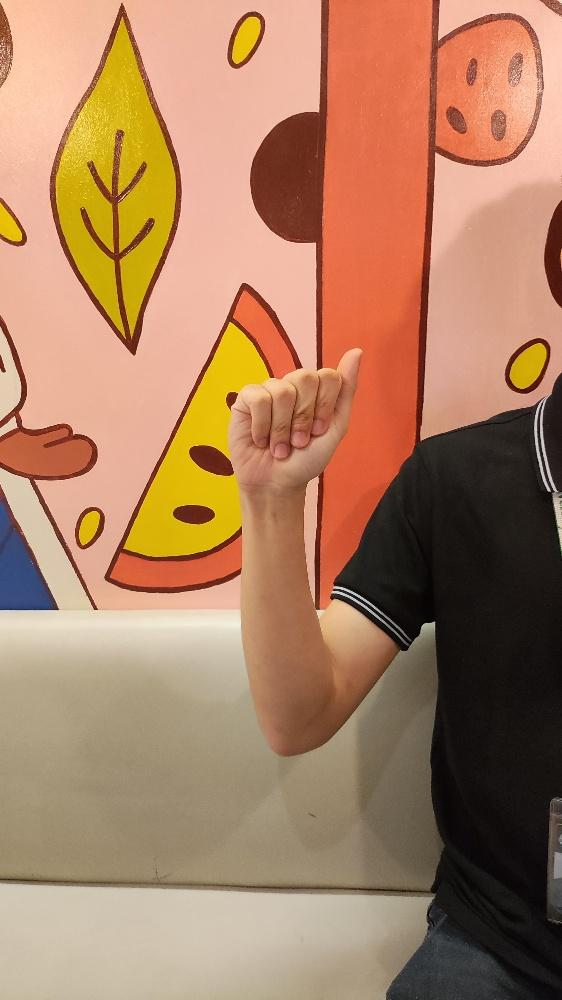a: (224, 345, 364, 490)
